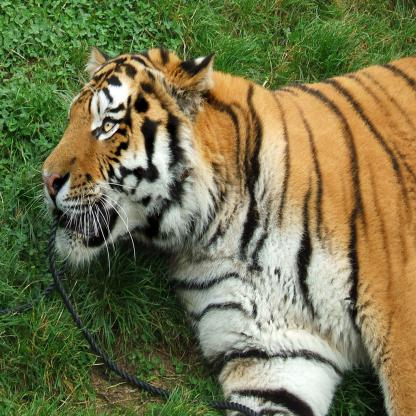tiger: (32, 39, 218, 267)
